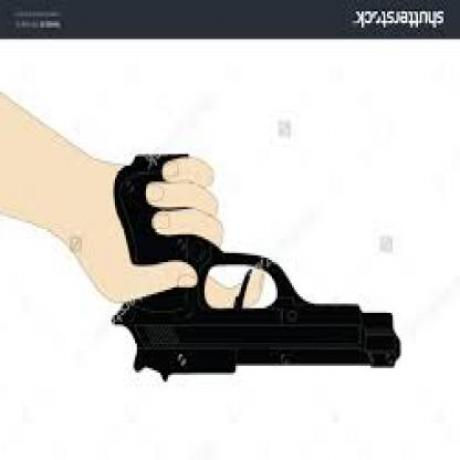1: (0, 90, 263, 309)
weapon: (109, 134, 408, 386)
